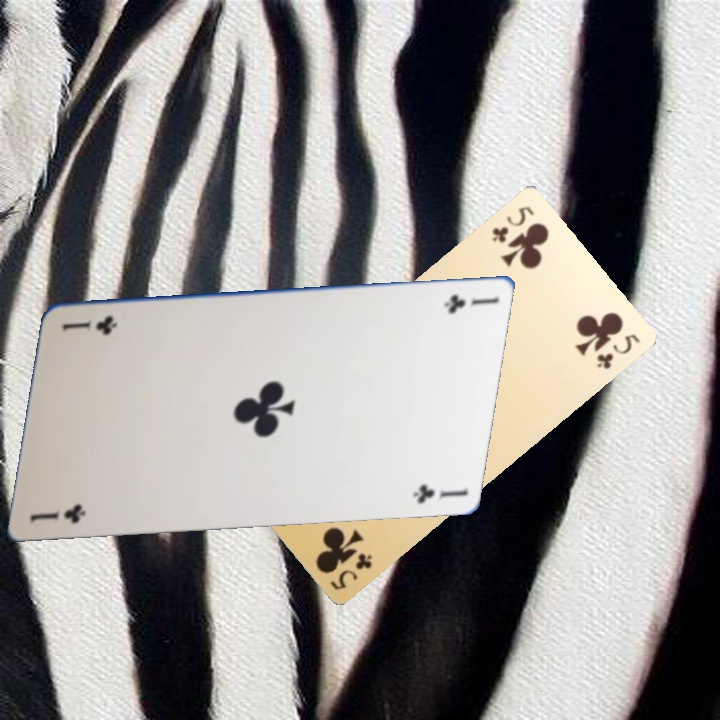1c: (431, 287, 502, 315), (400, 479, 471, 507), (49, 310, 119, 338), (18, 502, 88, 530)
5c: (484, 195, 543, 249), (327, 540, 385, 594), (588, 322, 646, 376)
